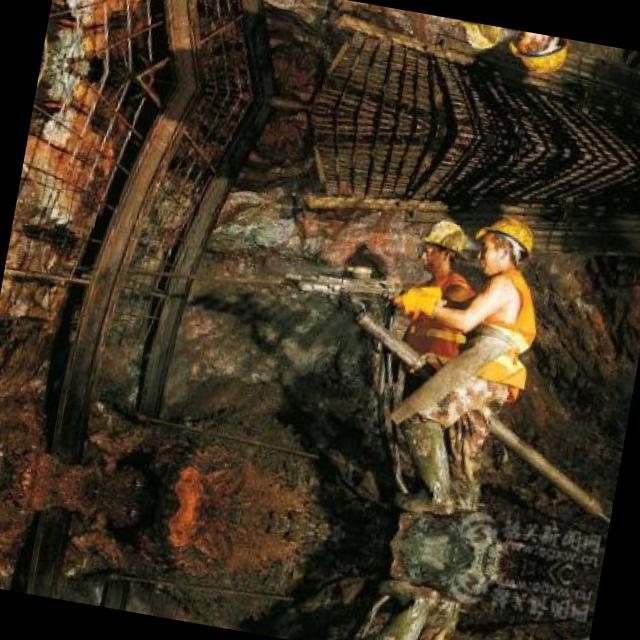helmet: (462, 204, 548, 284), (498, 28, 580, 86), (409, 210, 472, 282), (449, 18, 508, 58)
